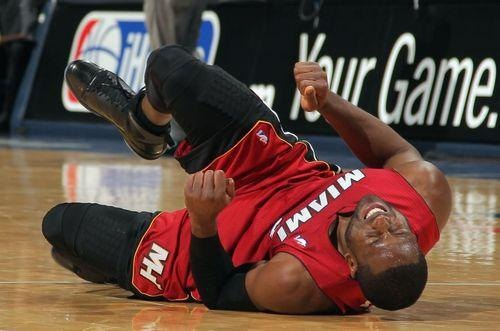falling: (29, 25, 467, 331)
